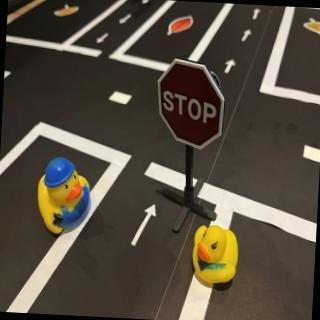duck_regular: (191, 223, 242, 287)
duck_specialty: (36, 154, 95, 239)
road_oneway: (128, 202, 163, 252), (95, 29, 114, 48), (118, 10, 136, 29), (223, 57, 240, 76), (241, 27, 256, 45), (252, 7, 263, 21)
sign_stop: (156, 59, 229, 151)
